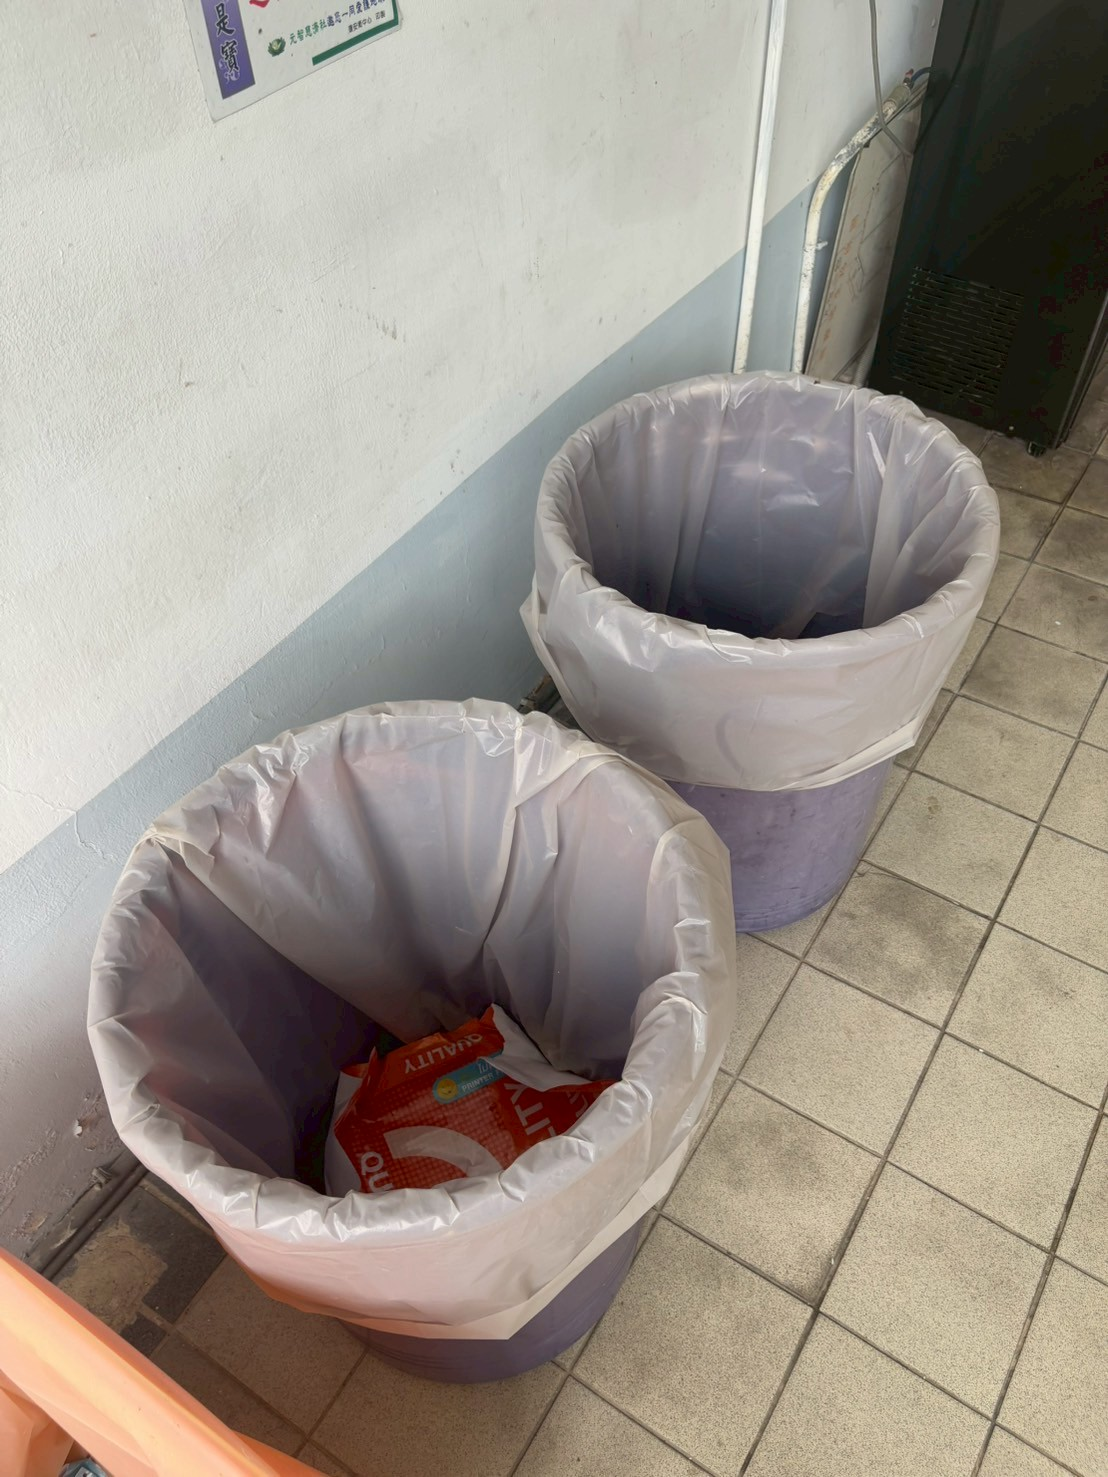normal_bin: (44, 679, 797, 1425), (514, 354, 1013, 986)
